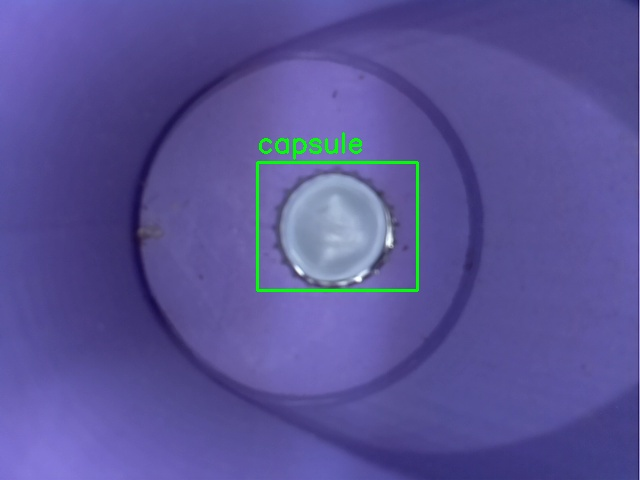capsule: (257, 162, 417, 290)
